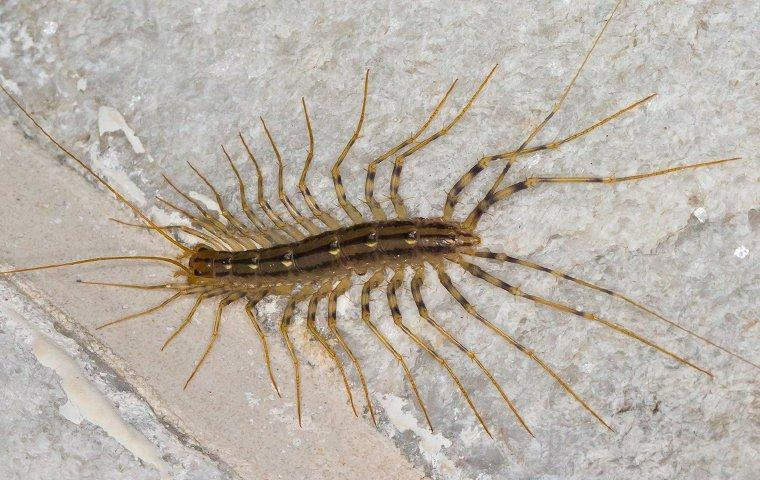centipede: (37, 63, 754, 445)
